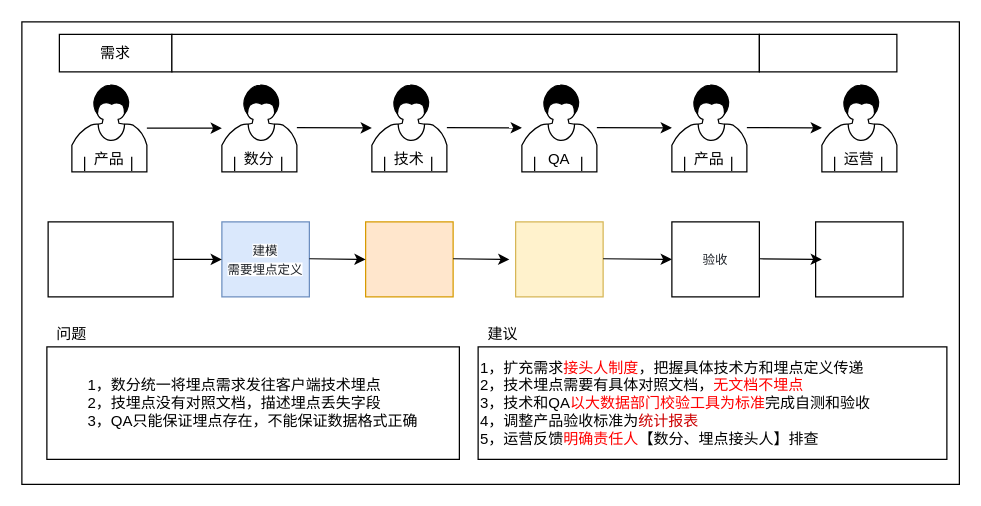
This 981x506 diagram has some shape labels left out. The shapes that lost their labels are listed below. From the top down, each one's centre as x and y in pixels, then its label:
point 465,52: 实施
point 827,52: 线上反馈
point 110,259: 测评PV/UV统计表 联想词命中表
point 408,259: 客户端 埋
point 558,259: 校验数据
point 858,259: 使用/反馈
